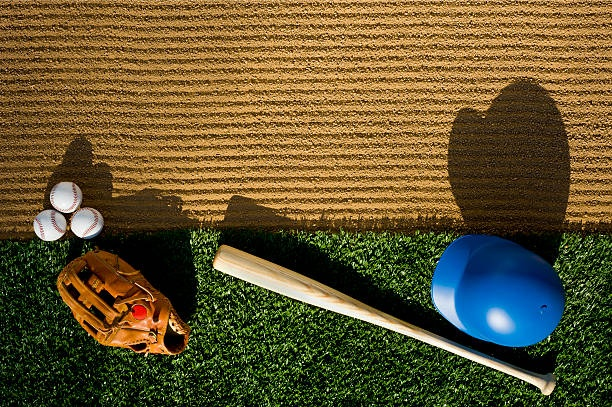bita: (213, 244, 555, 394)
